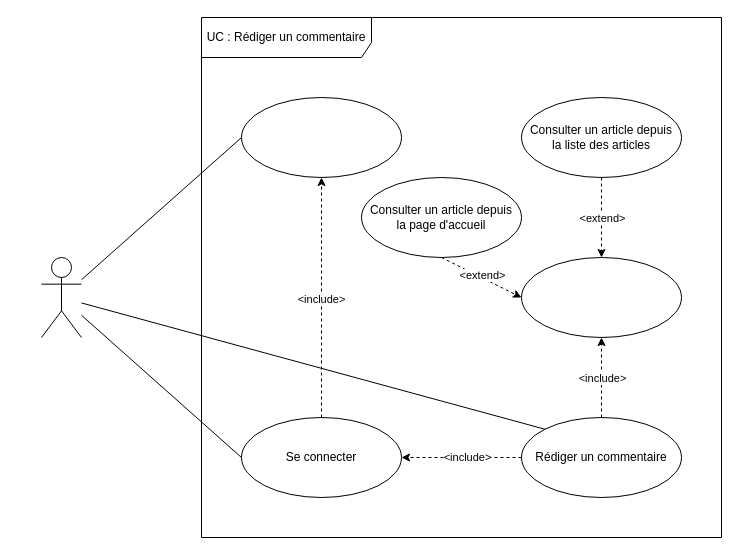
This 739x555 diagram has some shape labels left out. Each missing label, with the centre of its shape:
"Consulter un article" belongs at pixel 601 297.
"S'inscrire" belongs at pixel 321 137.
"Utilisateur inscrit" belongs at pixel 61 297.
